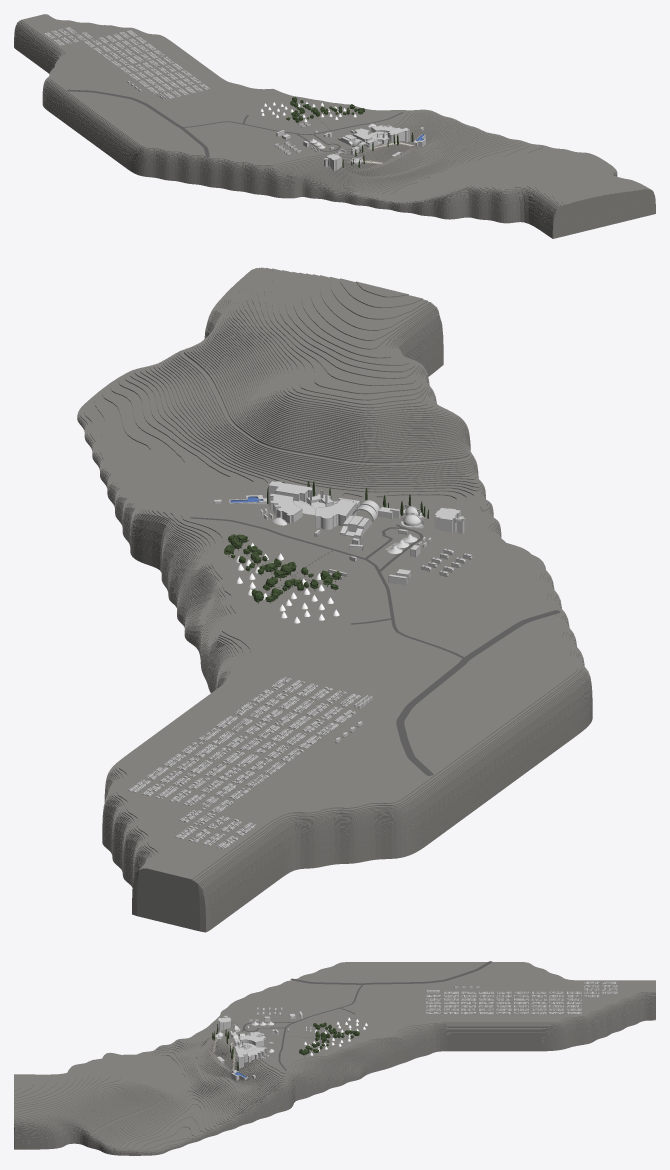
Rendered from formFestMap.glb.
3 renders of one model, top to bottom at view 1: azimuth 30°, elevation 25°; view 2: azimuth 150°, elevation 25°; view 3: azimuth 270°, elevation 25°, orthographic. The views are drawn at different scales.
Parts seen in each view (by area): view 1: Terrain_Step_Terrace_CamCrop, Placement_ParkingLot, Placement_Tree_Maple, map.osm_roads_residential, Road_Trimmed; view 2: Terrain_Step_Terrace_CamCrop, Placement_ParkingLot, Placement_Tree_Maple, map.osm_roads_residential, Road_Trimmed; view 3: Terrain_Step_Terrace_CamCrop, Placement_ParkingLot, Placement_Tree_Maple, map.osm_roads_residential, Road_Trimmed.
Boxes of the visible parts, left/top/right/bottom form: Terrain_Step_Terrace_CamCrop: left=14, top=14, right=655, bottom=238; Placement_ParkingLot: left=44, top=27, right=209, bottom=98; Placement_Tree_Maple: left=286, top=97, right=364, bottom=123; map.osm_roads_residential: left=67, top=89, right=209, bottom=156; Road_Trimmed: left=183, top=112, right=403, bottom=151; Terrain_Step_Terrace_CamCrop: left=77, top=267, right=592, bottom=932; Placement_ParkingLot: left=127, top=677, right=360, bottom=848; Placement_Tree_Maple: left=224, top=534, right=341, bottom=603; map.osm_roads_residential: left=396, top=610, right=559, bottom=775; Road_Trimmed: left=190, top=517, right=464, bottom=658; Terrain_Step_Terrace_CamCrop: left=14, top=962, right=655, bottom=1155; Placement_ParkingLot: left=426, top=981, right=617, bottom=1014; Placement_Tree_Maple: left=298, top=1022, right=359, bottom=1056; map.osm_roads_residential: left=290, top=961, right=492, bottom=984; Road_Trimmed: left=241, top=985, right=362, bottom=1070.
Size of the model in its own units: 715 by 64.55 by 1126.
Materials: 15 (1 with a texture image).
